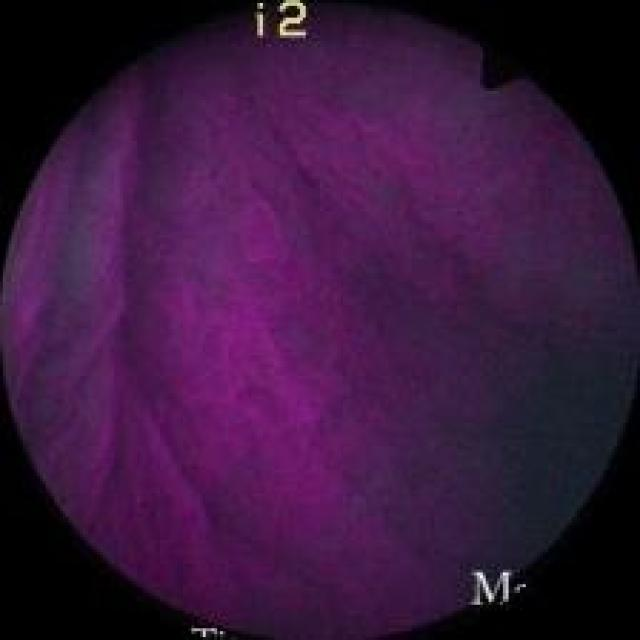color misalignment: (244, 2, 316, 43), (461, 566, 522, 610), (189, 625, 228, 638)
contrast: (448, 324, 634, 587)
